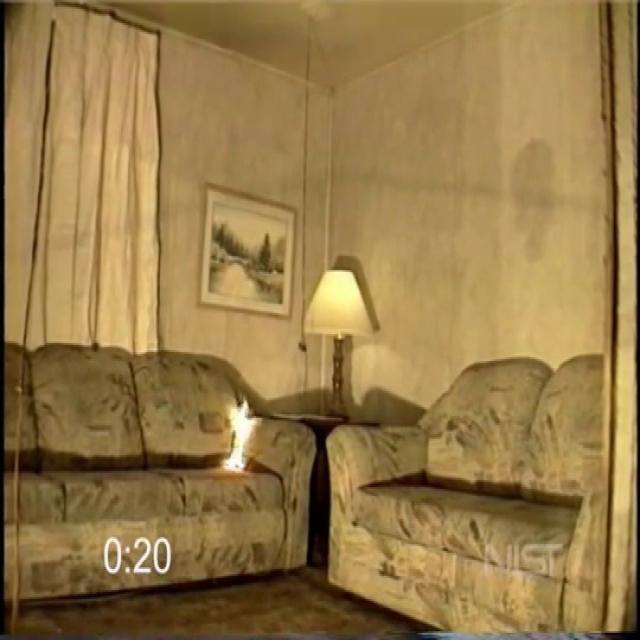Fire: (216, 390, 260, 472)
